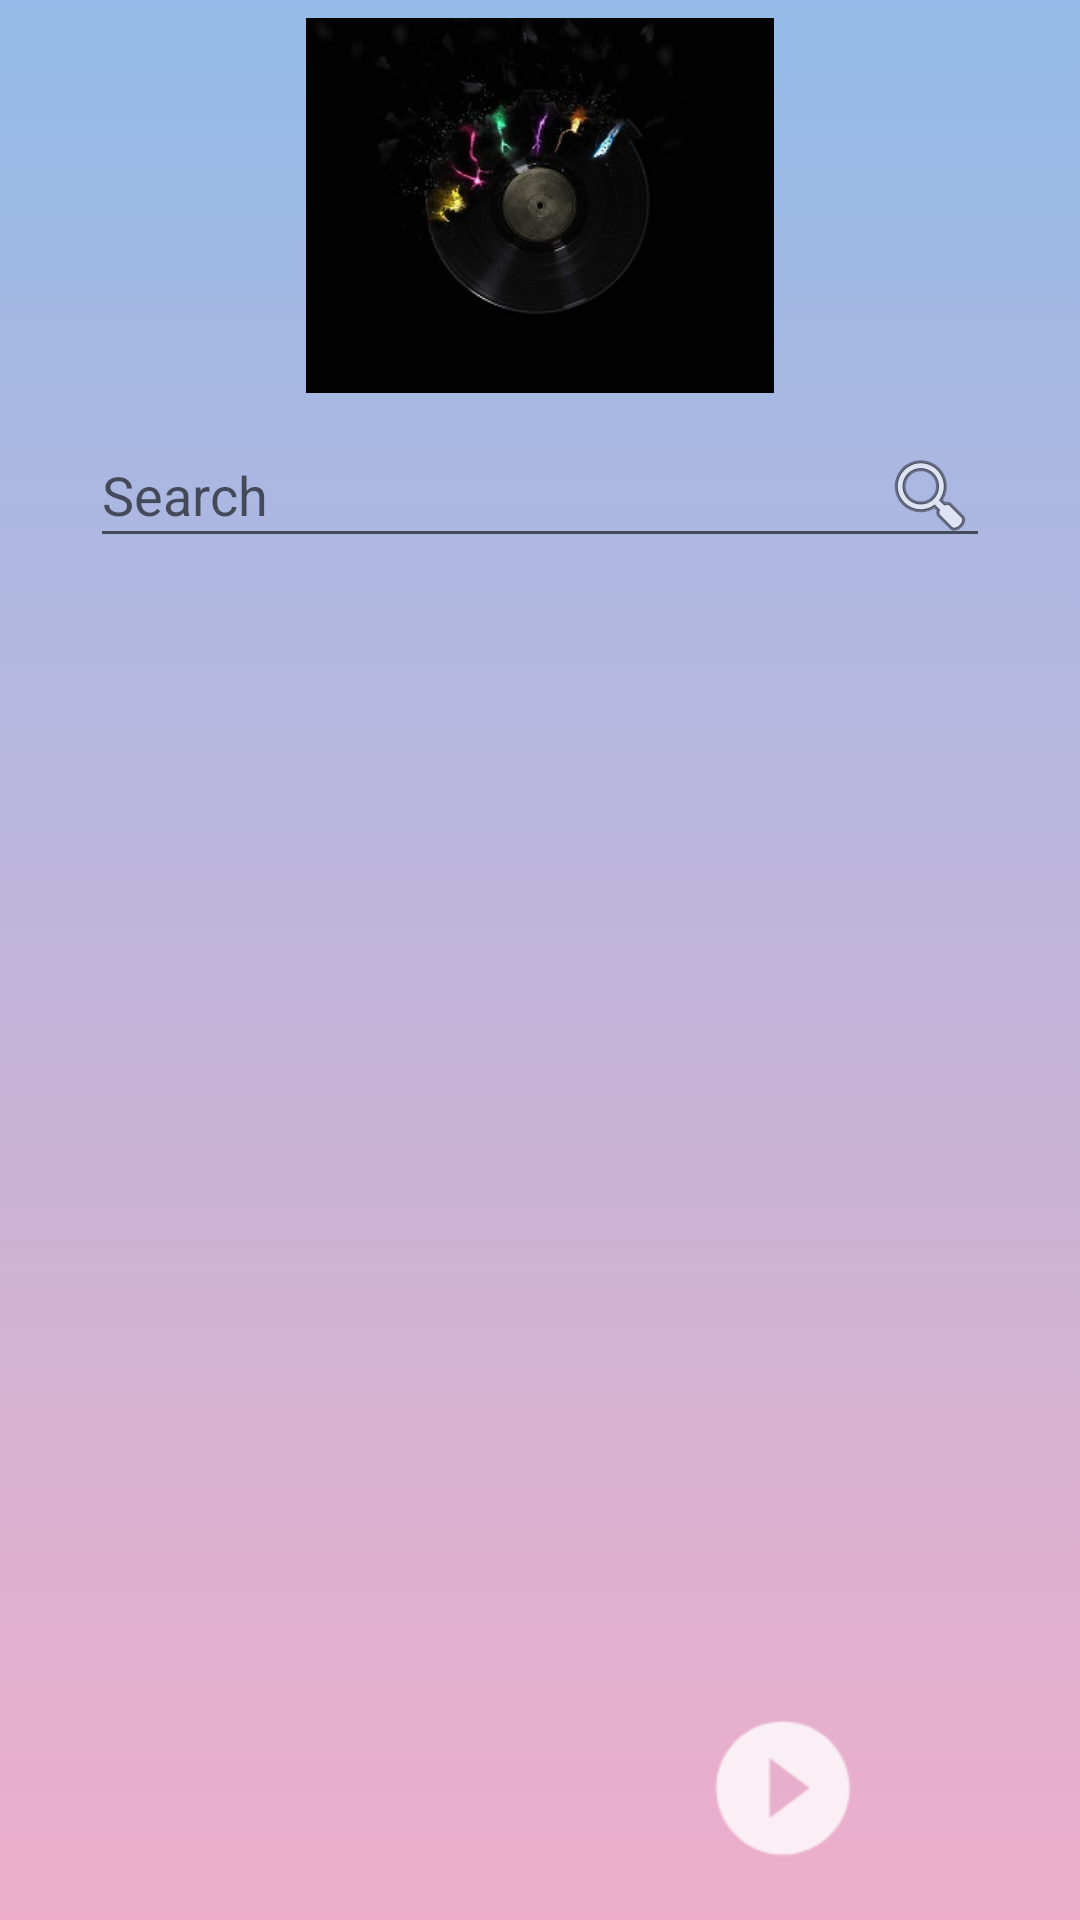

Icon bounding boxes for this 1080px×1920px phone screenshot, format bbox=(x1, y1, x2, y2):
play circle: bbox=(716, 1721, 850, 1855)
